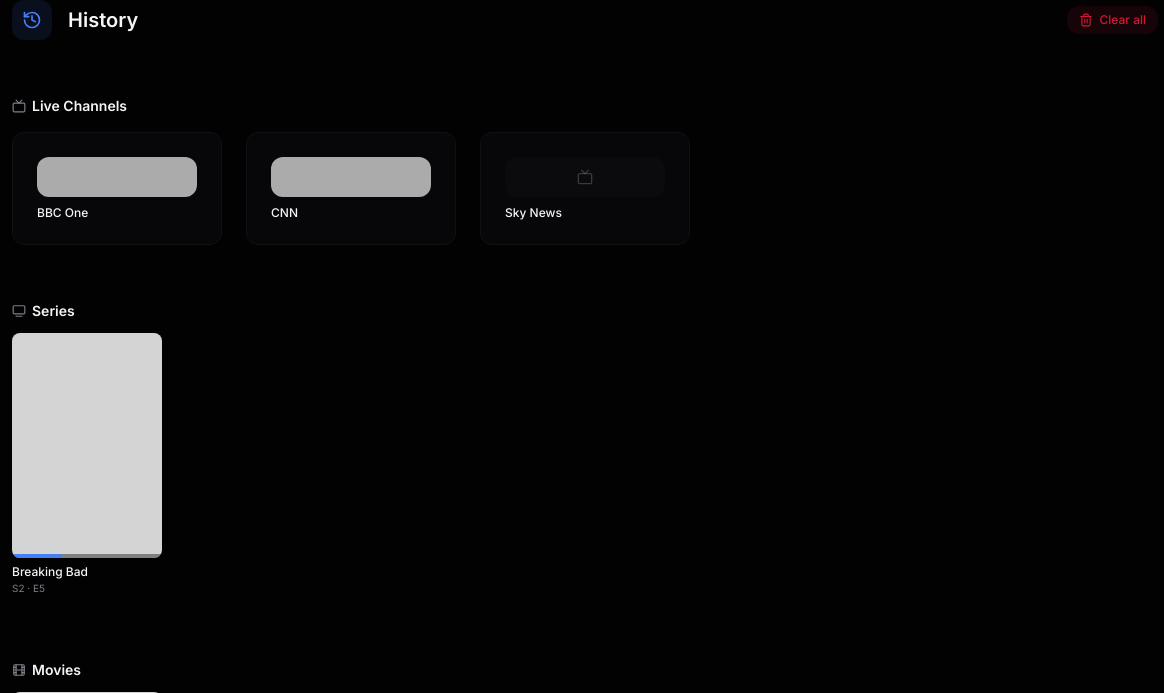
Test: HistoryPage › clear all with mixed history › clears channels, series, and movie progress together
The width and height of the screenshot is (1164, 693).
Step 1. Click the button "Clear all" → (1113, 20), box [1068,6,1158,34]
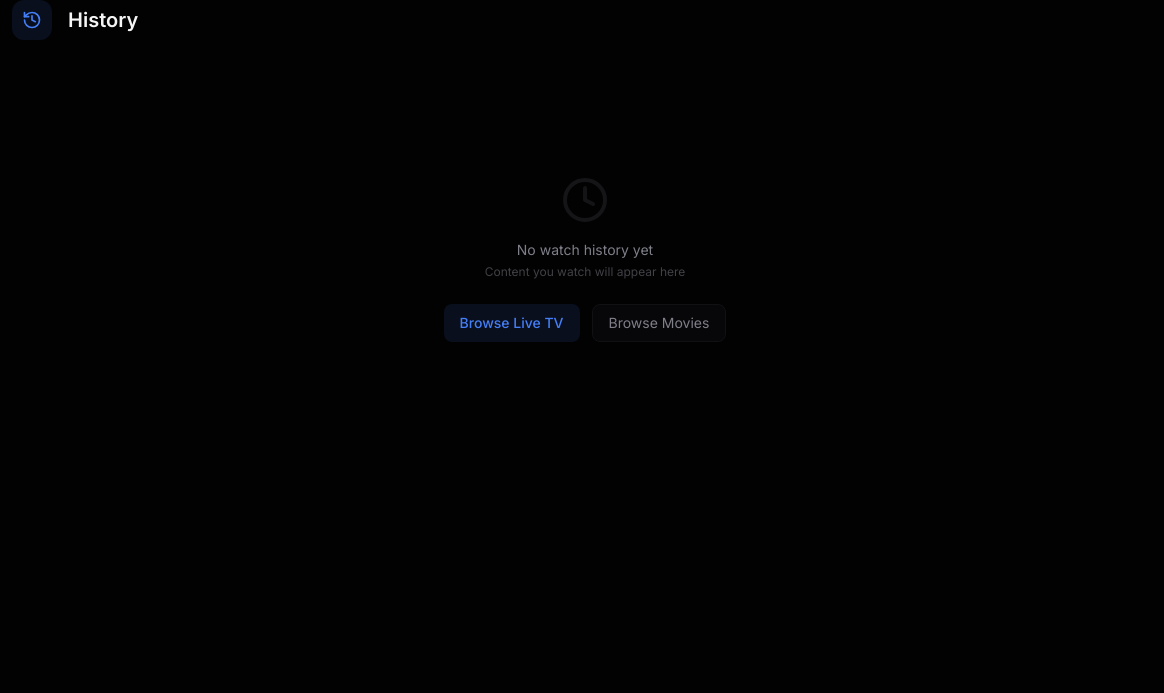
Now the text "No watch history yet" is shown, box [517,240,653,260]
